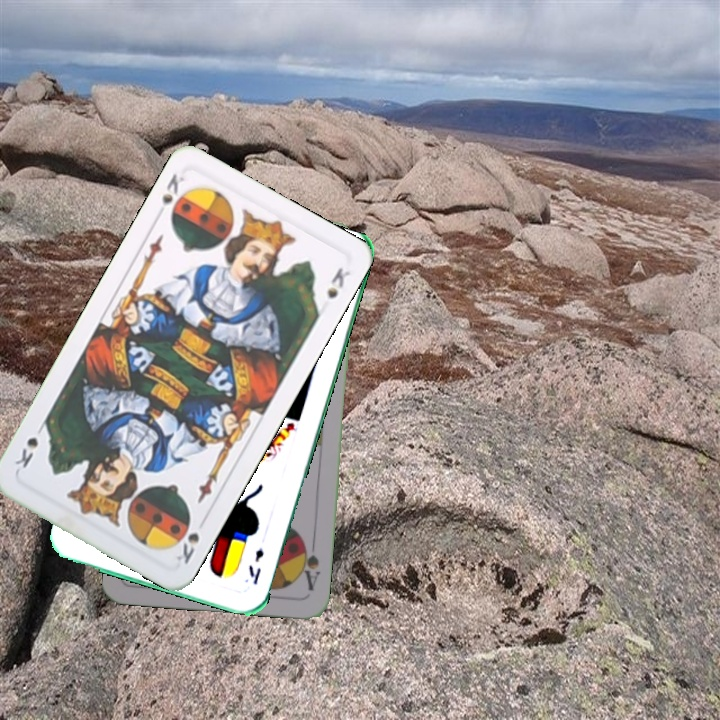EK: (244, 543, 267, 587)
SA: (296, 535, 322, 593)
SK: (151, 169, 191, 224), (172, 513, 209, 567)
